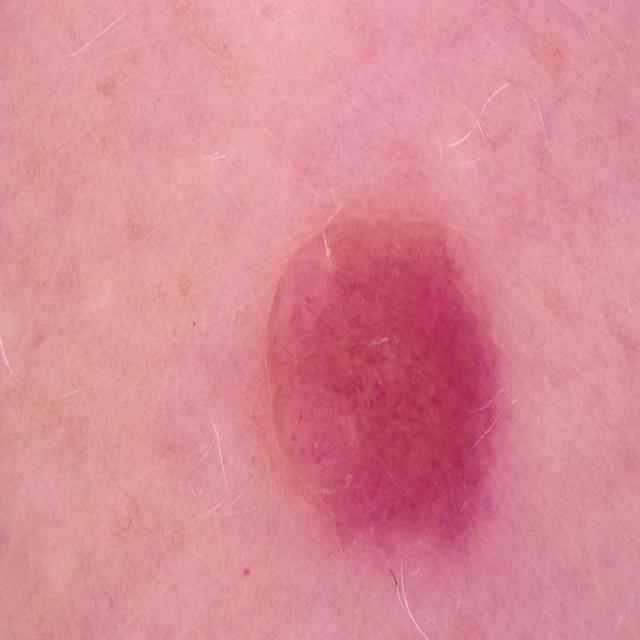NV: (257, 213, 506, 559)
